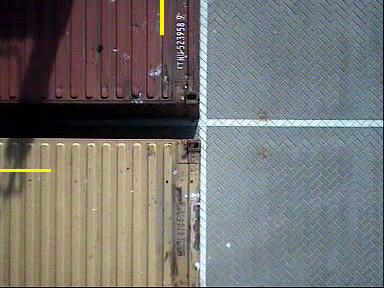groundmarker_2: (176, 199, 246, 227), (177, 244, 246, 272), (202, 57, 241, 105)
